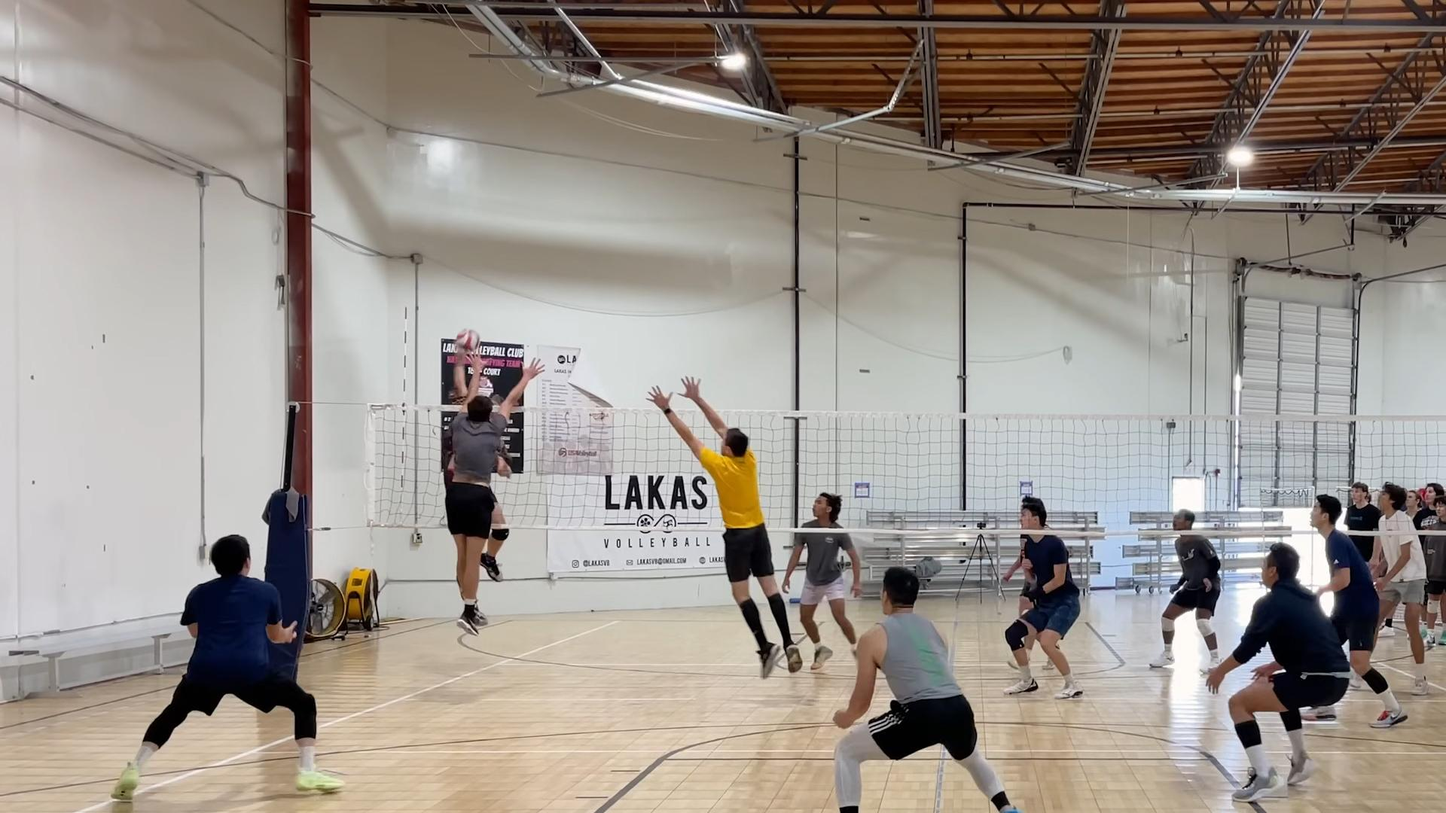Block: (662, 379, 812, 672), (442, 353, 549, 632)
Player: (112, 535, 343, 800), (834, 568, 1017, 812), (1207, 543, 1349, 802), (1311, 495, 1407, 727), (1005, 497, 1082, 699), (1149, 509, 1222, 668), (1376, 483, 1428, 695), (783, 531, 862, 669), (1001, 534, 1035, 617)
ball: (455, 328, 481, 352)
